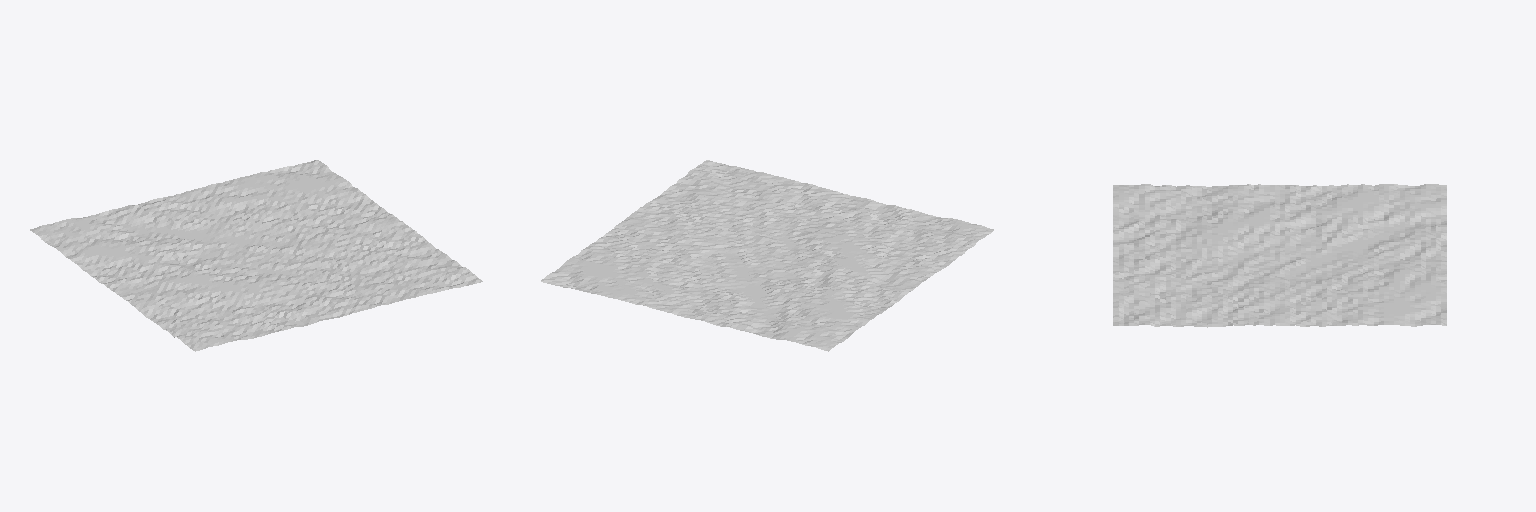
3 views of the same model, side by side, from view 1: azimuth 30°, elevation 25°; view 2: azimuth 150°, elevation 25°; view 3: azimuth 270°, elevation 25° (orthographic).
Parts seen in each view (by area): view 1: SnowPlane_Plane; view 2: SnowPlane_Plane; view 3: SnowPlane_Plane.
Boxes of the visible parts, box(x1,y1,x2,y2) form: SnowPlane_Plane: box(30, 160, 482, 351); SnowPlane_Plane: box(541, 160, 993, 351); SnowPlane_Plane: box(1113, 184, 1446, 327).
Bounding box in the file's own units: 0.6883 × 0.0069 × 0.6883.
1 materials, 1 textured.